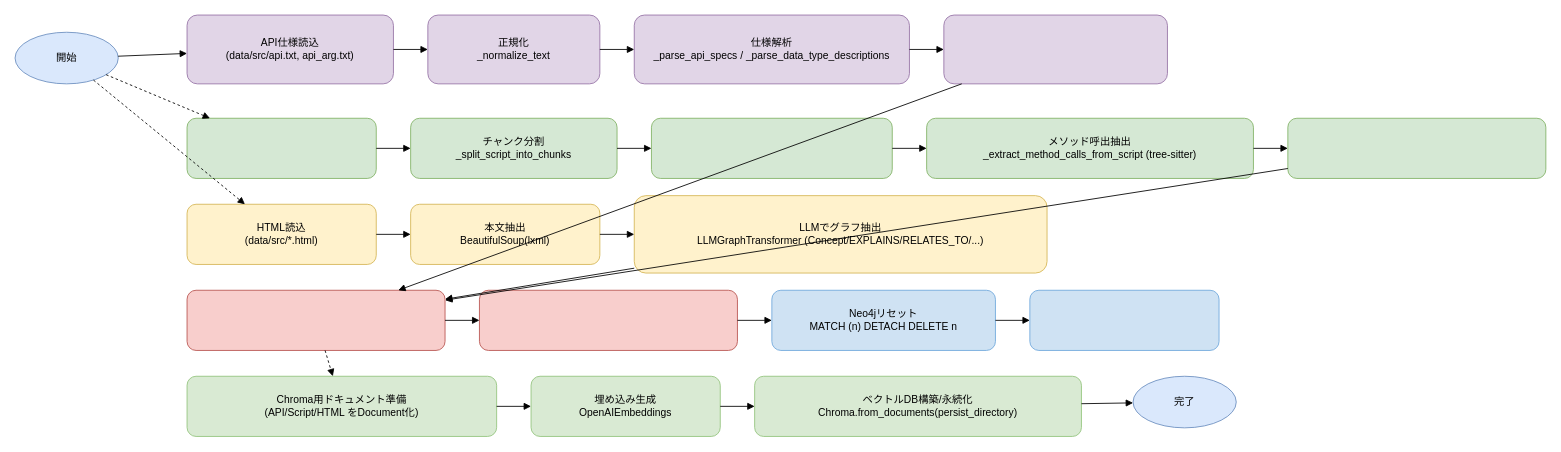
Image size: 1561x452. Some labels were removed from this diagram. Each missing label, with the centre of its shape:
"GraphDocument生成 _triples_to_graph_documents" belongs at [608,319].
"Neo4j投入 add_graph_documents" belongs at [1124,319].
"スクリプトトリプル生成 extract_triples_from_script" belongs at [1416,147].
"スクリプト読込 (data/src/*.py)" belongs at [281,147].
"トリプル統合 (仕様 + スクリプト + HTML)" belongs at [315,319].
"仕様トリプル生成 extract_triples_from_specs" belongs at [1055,49].
"目的抽出(LLM) _get_chunk_purpose (ChatOpenAI)" belongs at [771,147].
